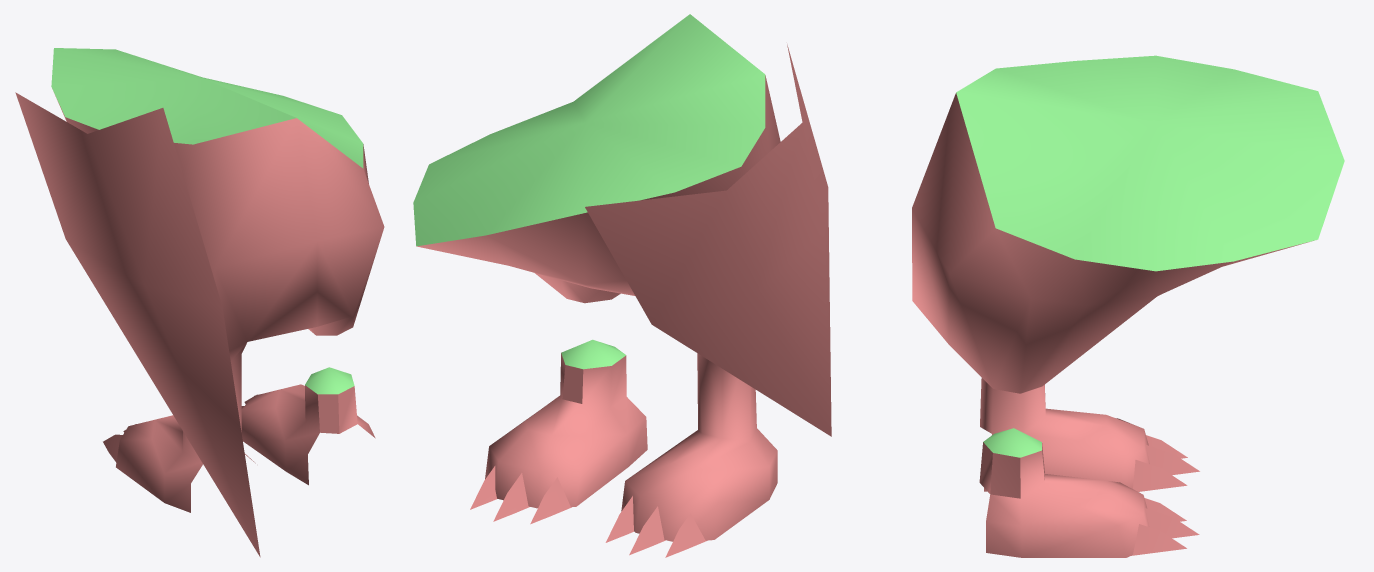
The model's file is SSQ_statue03_b02.gltf.
The picture shows the model from 3 angles, left to right: view 1: azimuth 30°, elevation 25°; view 2: azimuth 150°, elevation 25°; view 3: azimuth 270°, elevation 25°; orthographic projection. The views are drawn at different scales.
Parts seen in each view (by area): view 1: SSQ_statue03_b02; view 2: SSQ_statue03_b02; view 3: SSQ_statue03_b02.
Boxes of the visible parts, box(x1,y1,x2,y2) form: SSQ_statue03_b02: box(15, 48, 384, 557); SSQ_statue03_b02: box(413, 14, 831, 557); SSQ_statue03_b02: box(912, 55, 1344, 557).
Bounding box in the file's own units: 0.4033 × 0.5314 × 0.5498.
